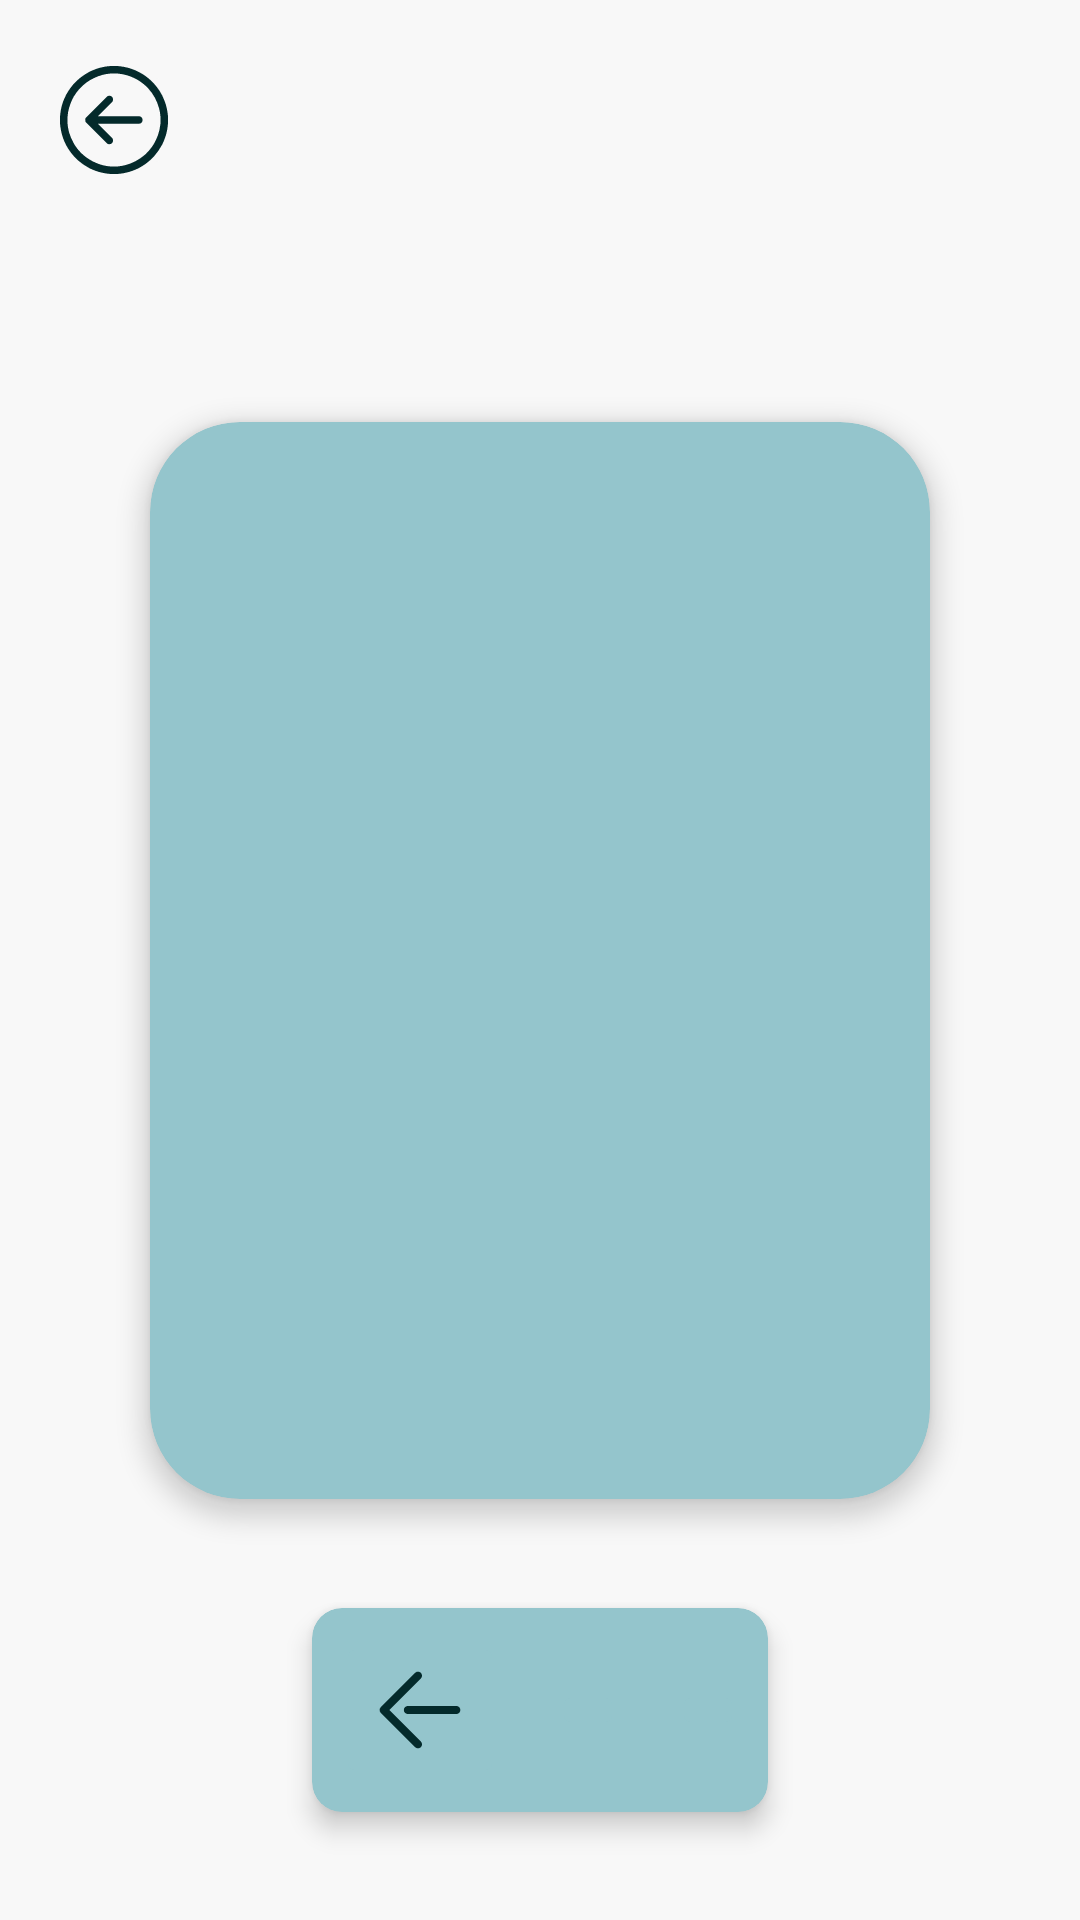

Where icons sit on this 1080px×1920px app screen, as region(x1, y1, x2, y2):
back: region(60, 66, 168, 174), region(379, 1671, 461, 1749)
